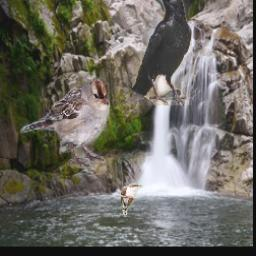Crow: (131, 0, 191, 105)
Cuckoo: (121, 184, 143, 217)
Sparrow: (20, 78, 114, 170)
